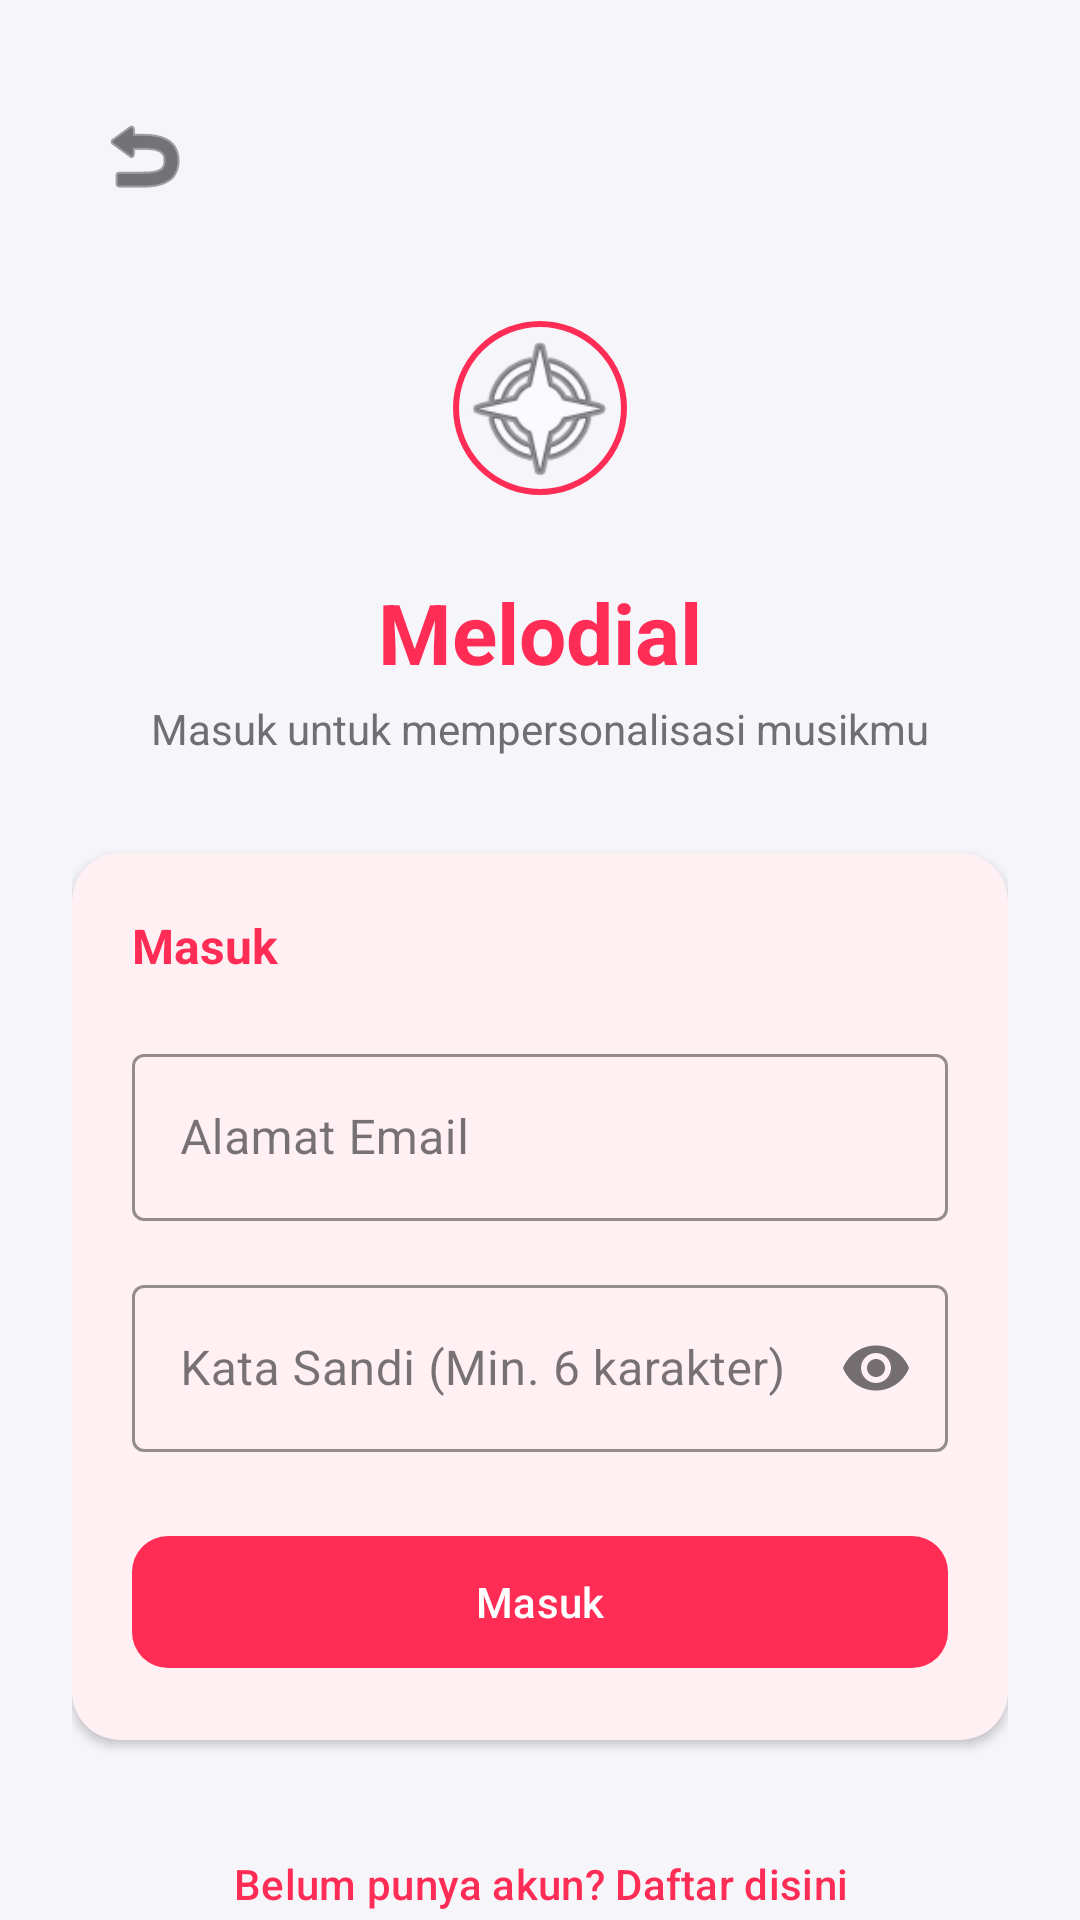

Point at icon controls on the screen. Image size 1080×1920, points as point (x, y).
compass: point (540, 408)
Kembali: point (145, 156)
